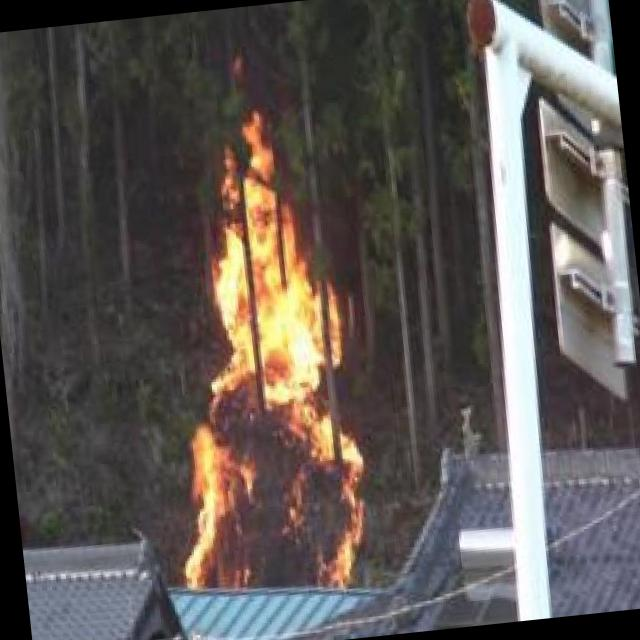Fire: (140, 116, 368, 596)
